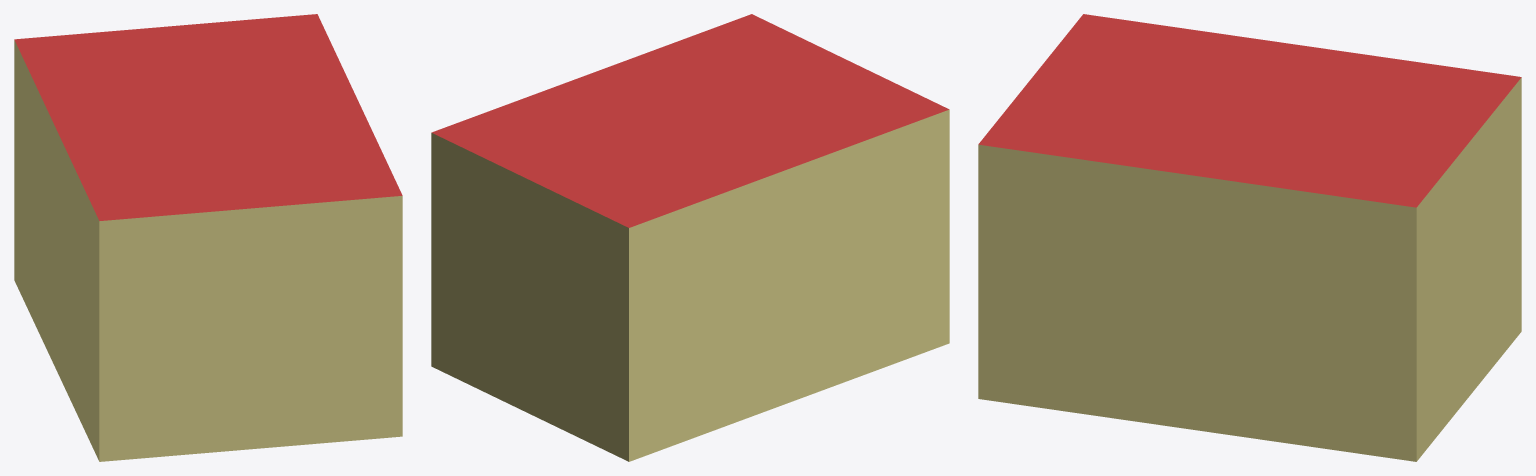
3 views of the same model, side by side, from view 1: azimuth 30°, elevation 25°; view 2: azimuth 150°, elevation 25°; view 3: azimuth 270°, elevation 25° (orthographic). The views are drawn at different scales.
Visible parts, largest first — view 1: group_4, group_3; view 2: group_4, group_3; view 3: group_4, group_3.
Part boxes in pixels (x1,y1,x2,y2): group_4: [14, 40, 402, 461]; group_3: [14, 14, 402, 220]; group_4: [431, 109, 949, 461]; group_3: [431, 14, 949, 227]; group_4: [978, 77, 1521, 461]; group_3: [978, 14, 1521, 207].
Bounding box in the file's own units: 9.21 × 10.92 × 5.64.
